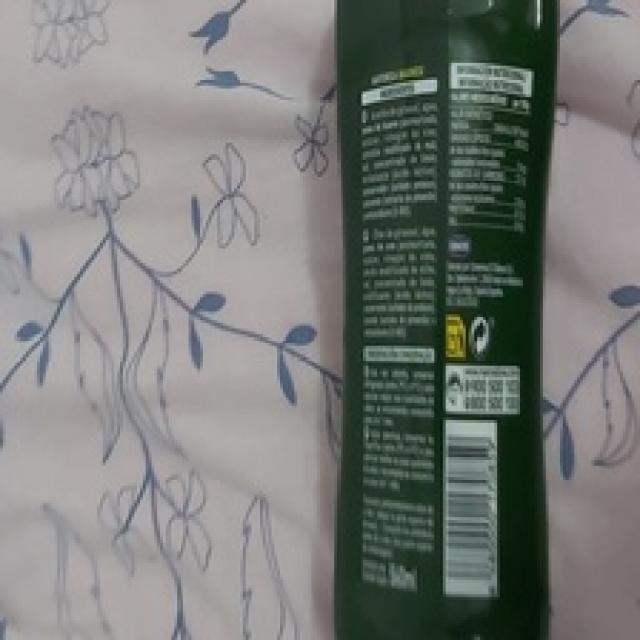Plastic: (337, 0, 557, 640)
